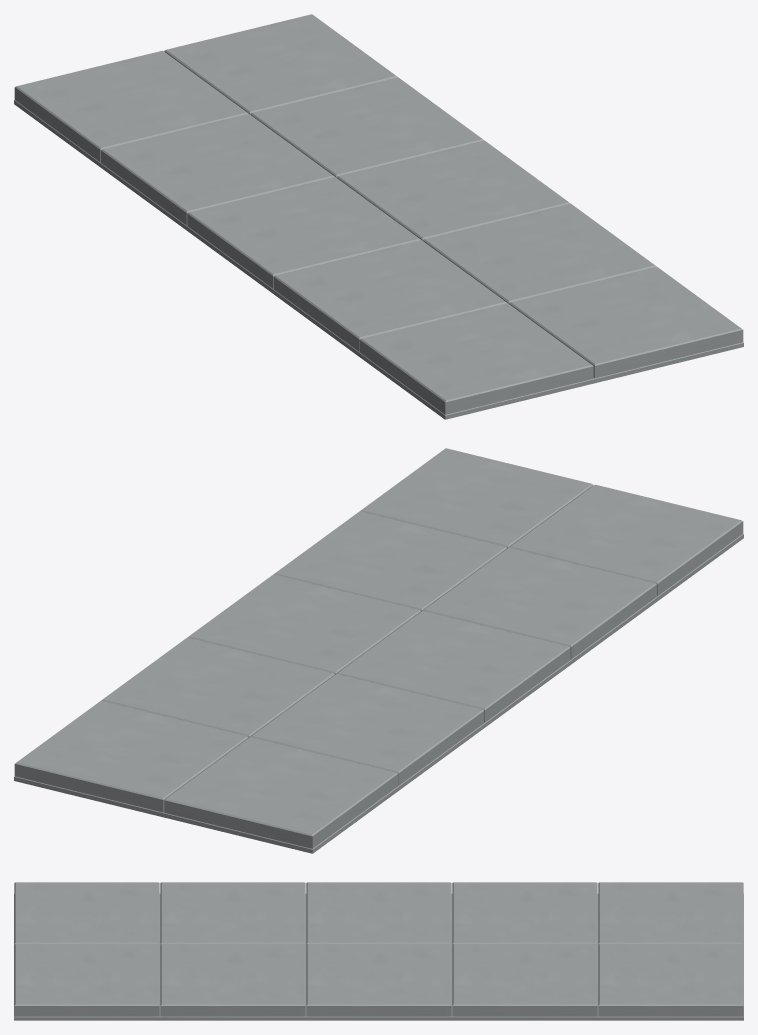
The model's file is showcase_sidewalk.glb.
The picture shows the model from 3 angles, top to bottom: view 1: azimuth 30°, elevation 25°; view 2: azimuth 150°, elevation 25°; view 3: azimuth 270°, elevation 25°; orthographic projection. The views are drawn at different scales.
Parts seen in each view (by area): view 1: outdoor_showcase_sidewalk; view 2: outdoor_showcase_sidewalk; view 3: outdoor_showcase_sidewalk.
Boxes of the visible parts, x1,y1,x2,y2 form: outdoor_showcase_sidewalk: (14, 14, 743, 419); outdoor_showcase_sidewalk: (14, 448, 743, 853); outdoor_showcase_sidewalk: (14, 882, 743, 1020).
Size of the model in its own units: 2.4 by 0.14 by 6.
1 material, 1 textured.
